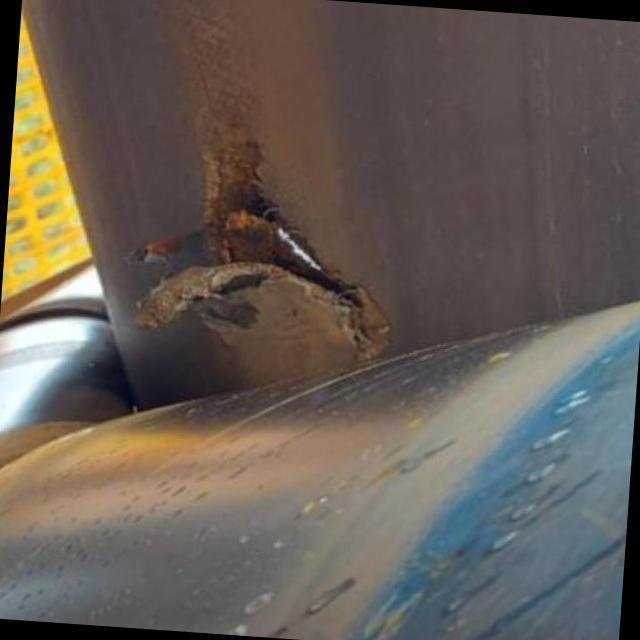Tear: (118, 133, 400, 369)
